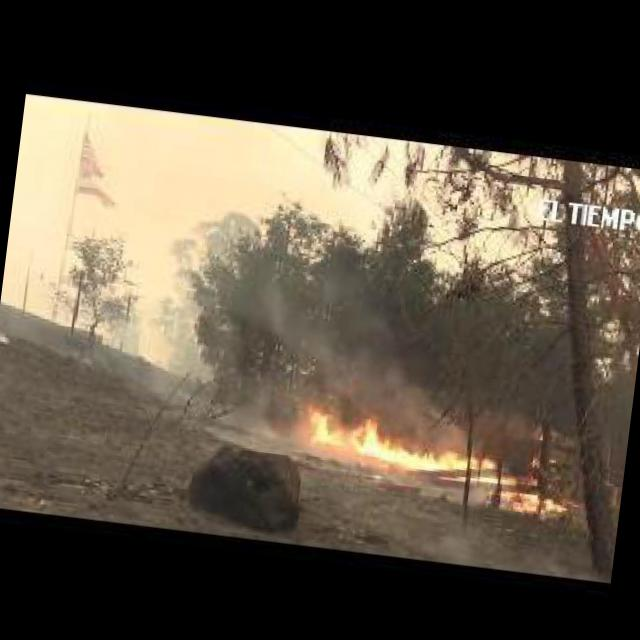fire: (299, 404, 497, 473), (498, 484, 566, 514), (526, 446, 556, 480)
smoke: (241, 259, 436, 418), (0, 295, 14, 349)
